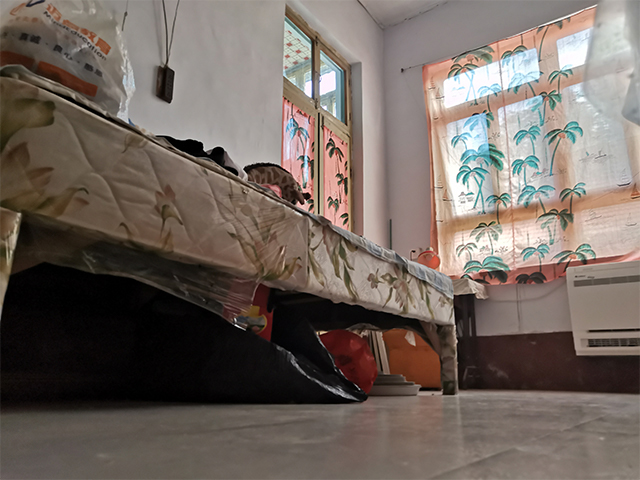bed: (1, 62, 461, 397)
